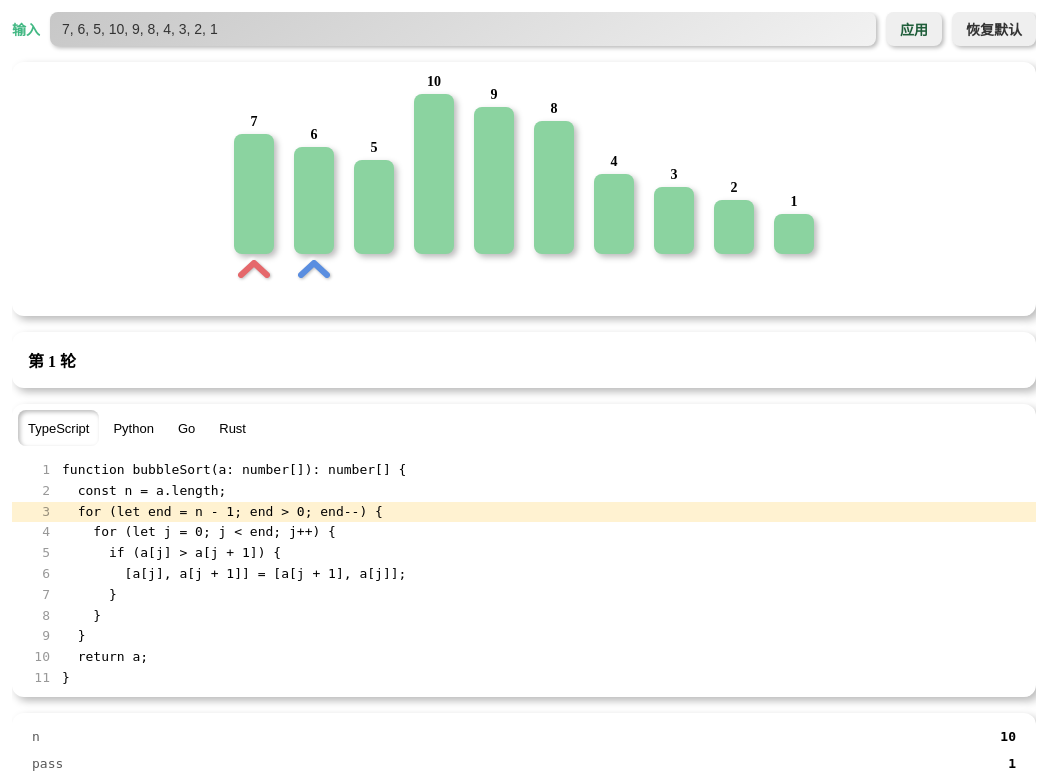
AlgorithmPlayer › 自定义输入（C-110） › TC-PLAYER-INPUT-05 应用写 URL；恢复默认清除
Replace the text in the field with class "ib-text" with "4, 2, 6" at x=463, y=29, box top-left (50, 12), bottom-right (876, 46)
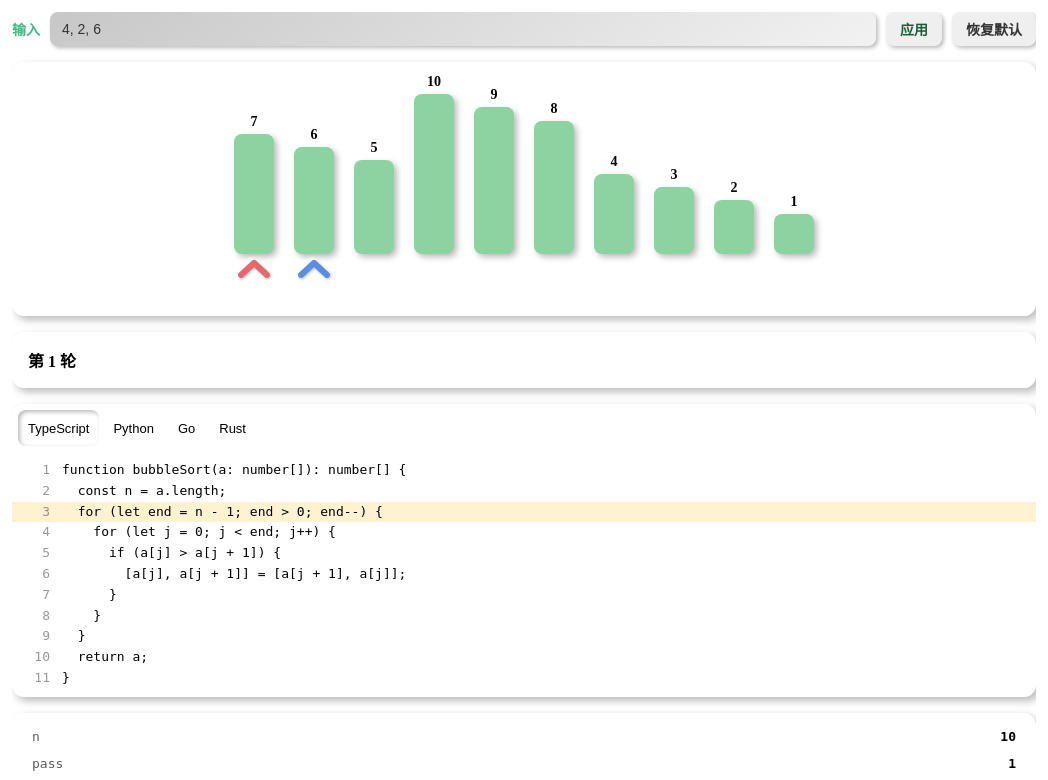
Click the button with class "ib-apply" at x=914, y=29, box top-left (886, 12), bottom-right (942, 46)
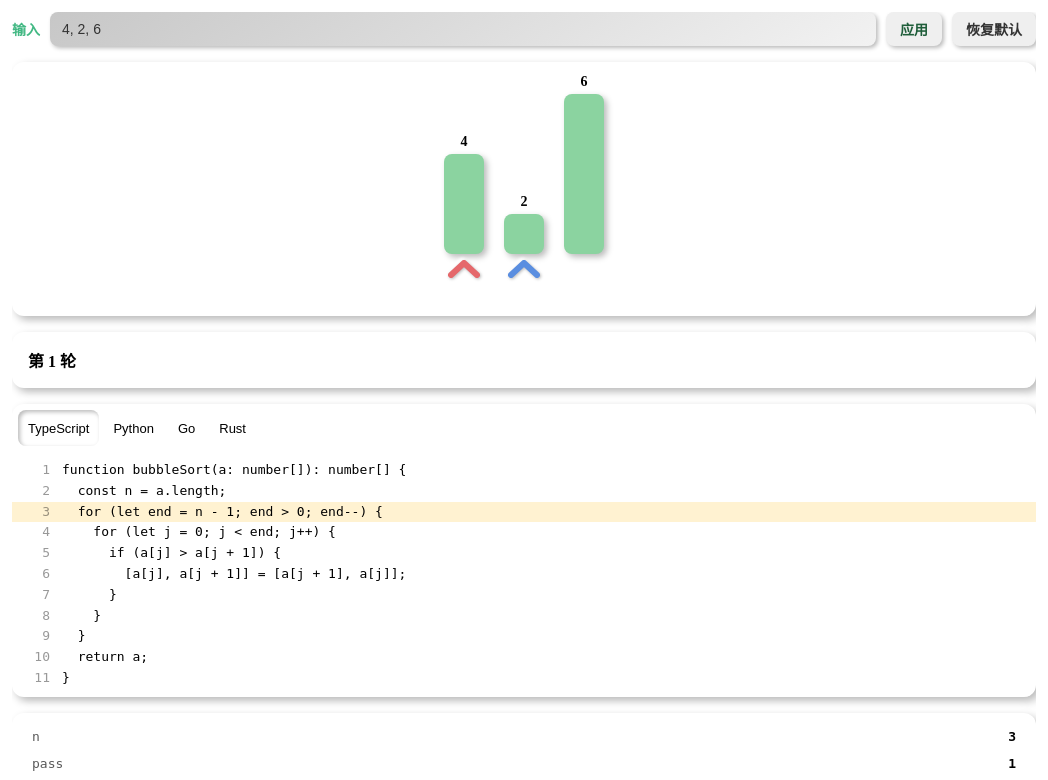
Click the button with class "ib-restore" at x=994, y=29, box top-left (952, 12), bottom-right (1036, 46)
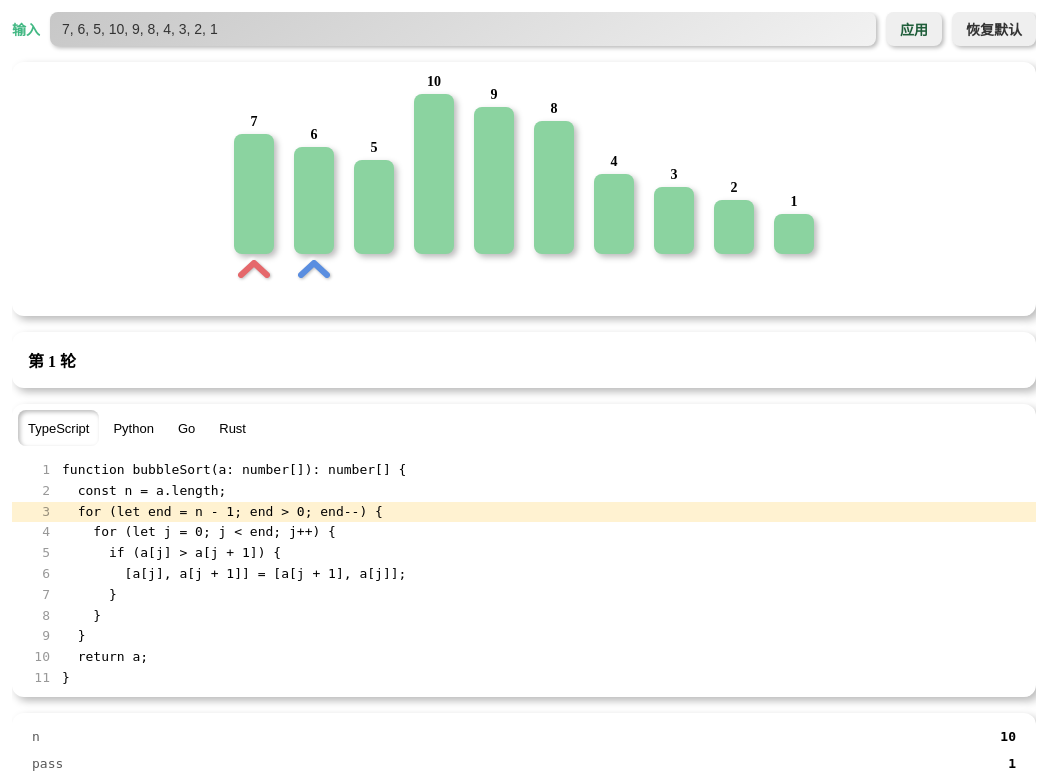
Now the number of "Bar" components is 10
